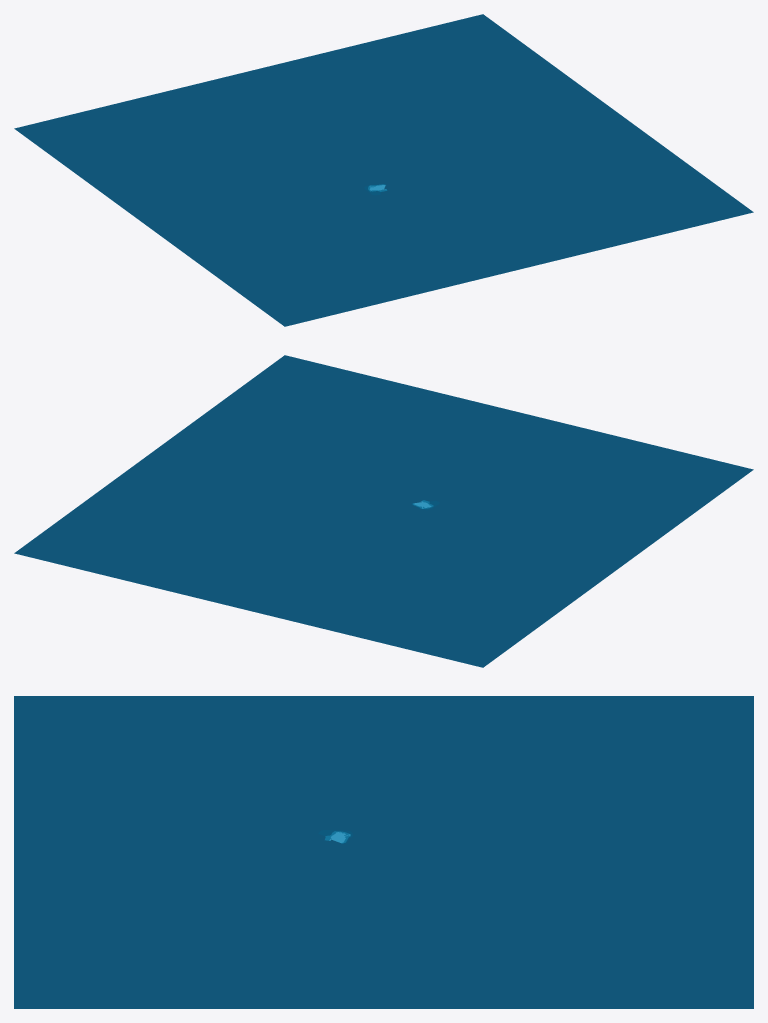
Rendered from kd_stage_1364a3_8_0.glb.
3 renders of one model, top to bottom at view 1: azimuth 30°, elevation 25°; view 2: azimuth 150°, elevation 25°; view 3: azimuth 270°, elevation 25°, orthographic. The views are drawn at different scales.
Parts seen in each view (by area): view 1: kd_stage_1364a3_8_0; view 2: kd_stage_1364a3_8_0; view 3: kd_stage_1364a3_8_0.
Boxes of the visible parts, x1,y1,x2,y2 form: kd_stage_1364a3_8_0: (14,14,753,326); kd_stage_1364a3_8_0: (14,355,753,667); kd_stage_1364a3_8_0: (14,696,753,1008).
Size of the model in its own units: 17000 by 1.23 by 17000.
Materials: 1 (1 with a texture image).
